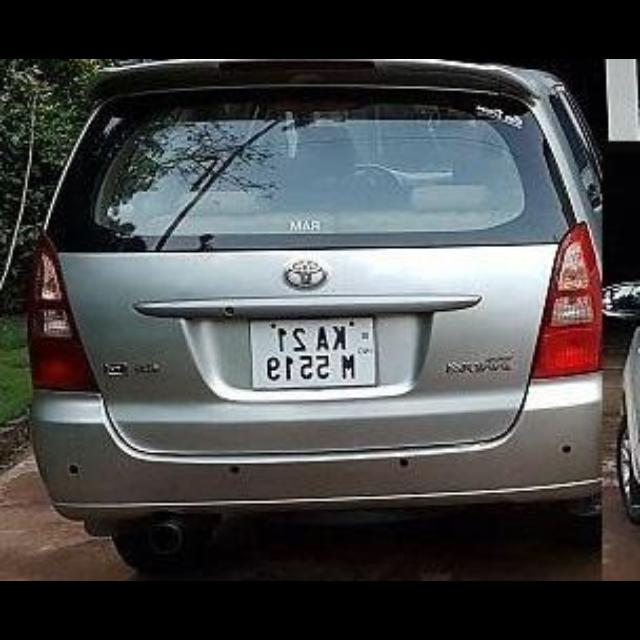number-plate: (245, 315, 370, 399)
vehicles: (36, 71, 594, 548)
